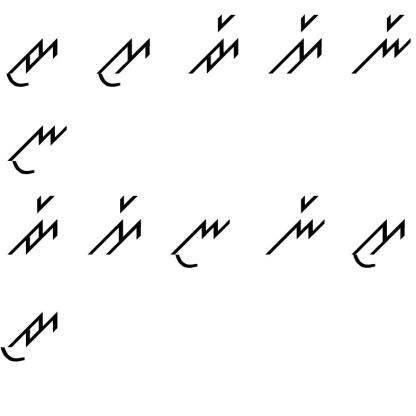jar: (176, 12, 247, 83), (4, 190, 61, 256)
jaw: (6, 31, 62, 89)
nyar: (262, 190, 329, 258), (349, 14, 414, 78)
nyaw: (164, 204, 236, 272), (3, 120, 73, 176)
sar: (85, 187, 143, 263), (267, 10, 327, 78)
saw: (344, 211, 412, 274), (1, 305, 66, 367), (94, 32, 154, 90)
